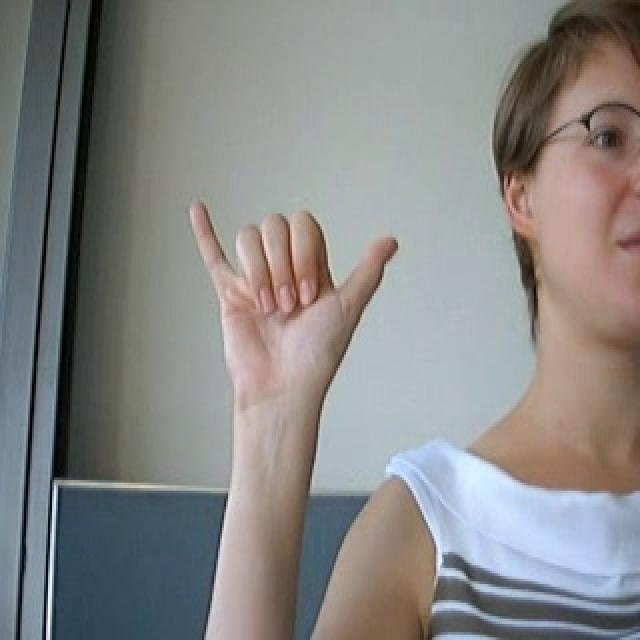Y: (174, 179, 418, 415)
